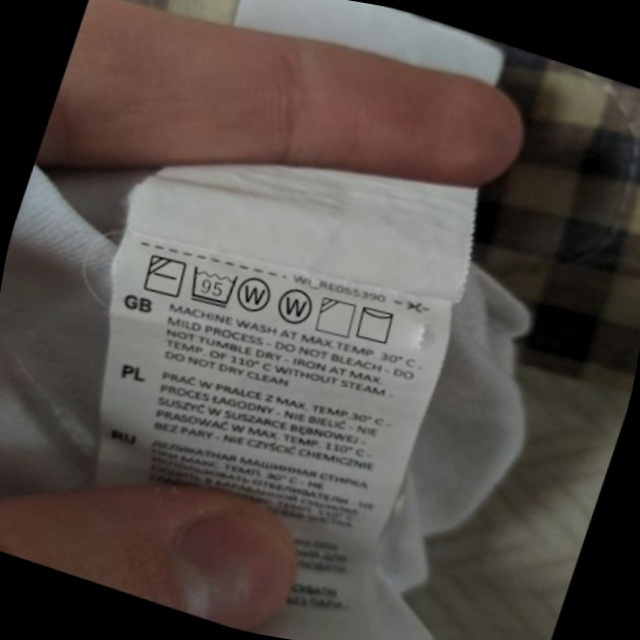95C: (181, 257, 245, 315)
dry_flat_in_shade: (136, 246, 193, 305)
line_dry: (348, 297, 404, 352)
shade_dry: (309, 290, 363, 345)
wet_clean: (269, 280, 322, 334), (230, 266, 282, 321)
